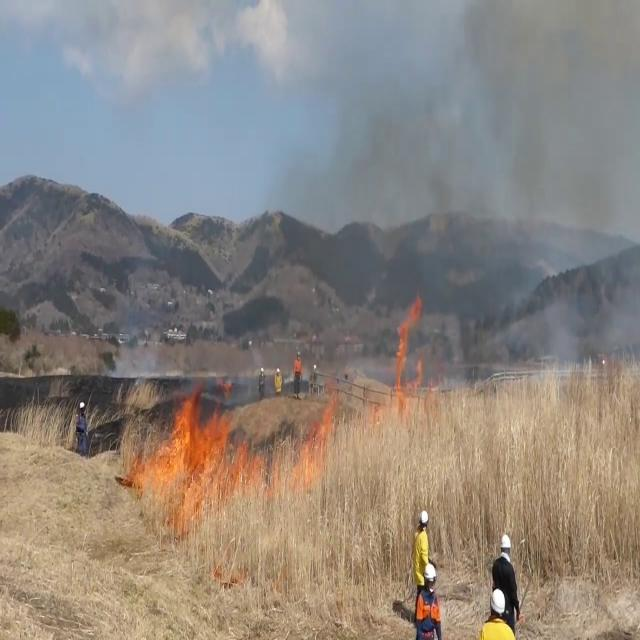Fire: (132, 386, 268, 519), (390, 285, 426, 393)
Smoke: (360, 1, 640, 391)
